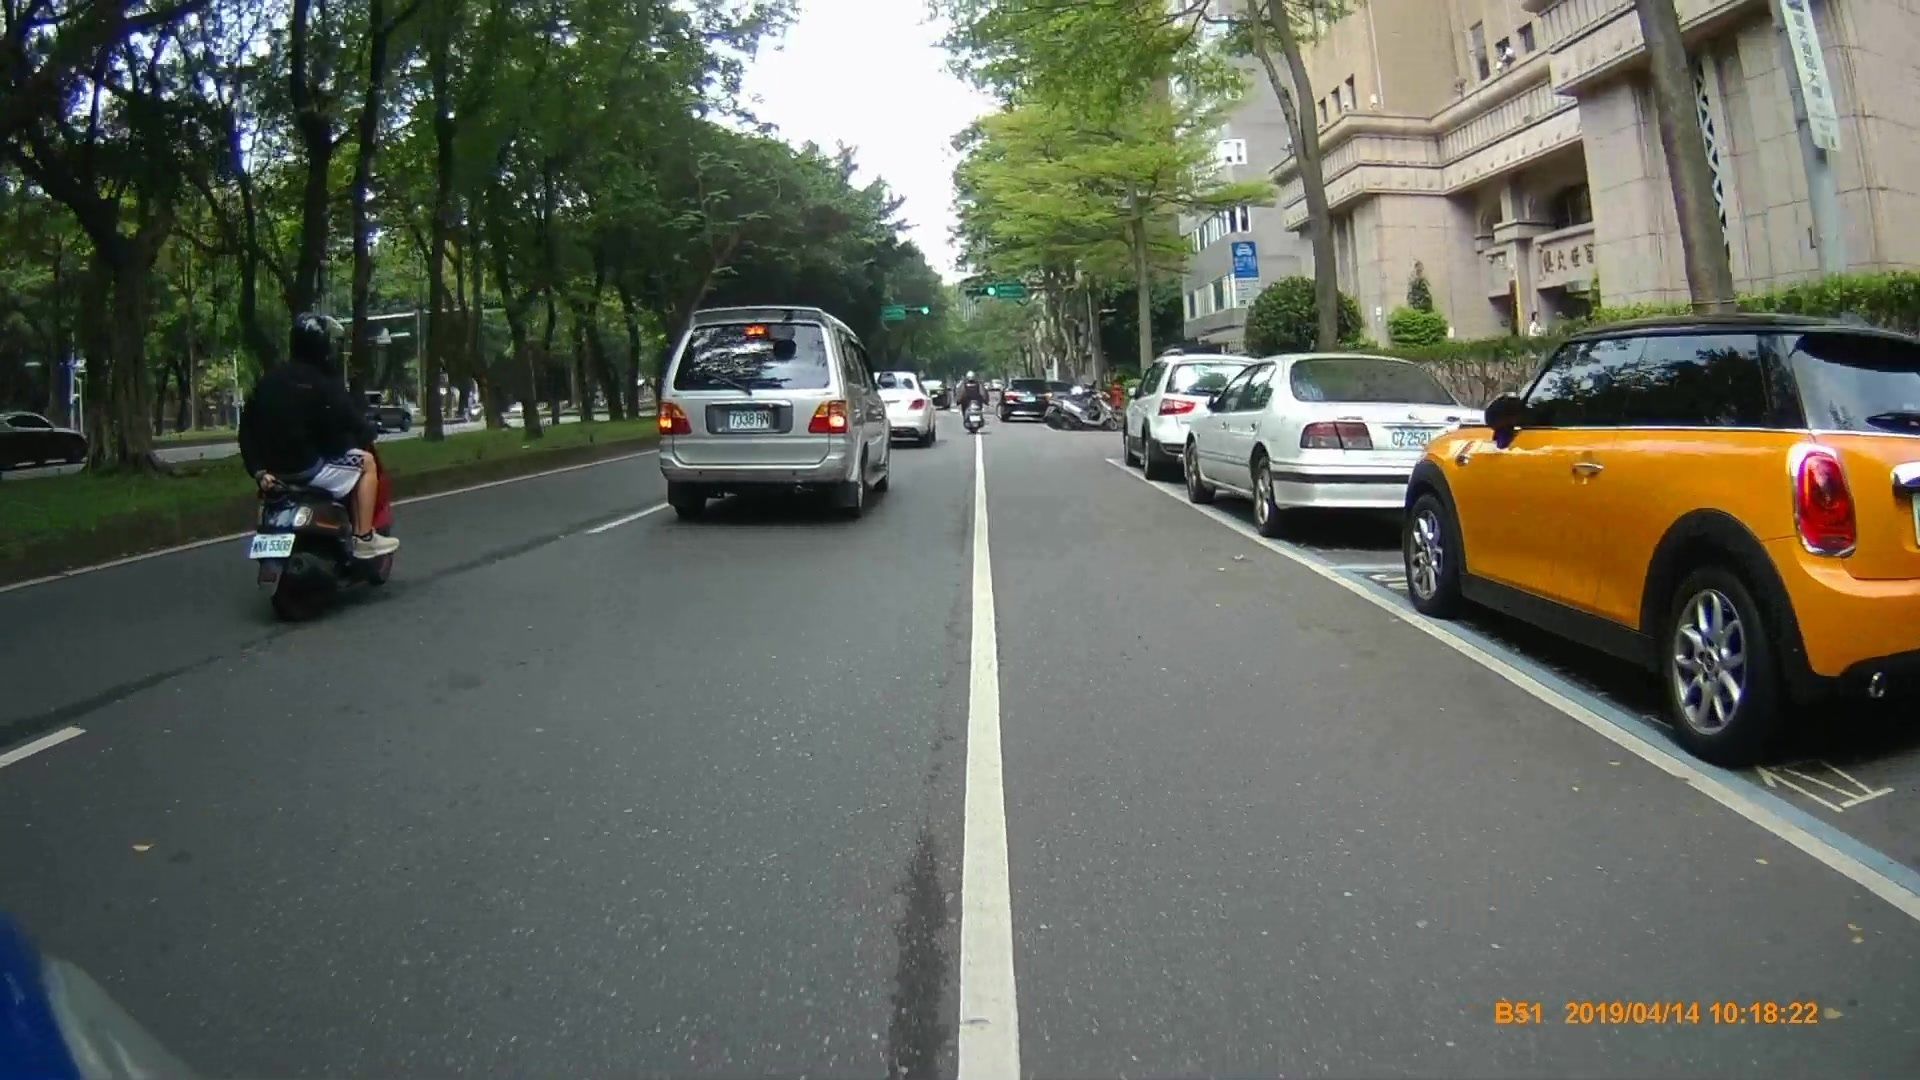License_plate: (249, 530, 294, 560), (1390, 428, 1436, 453), (729, 408, 773, 430)
